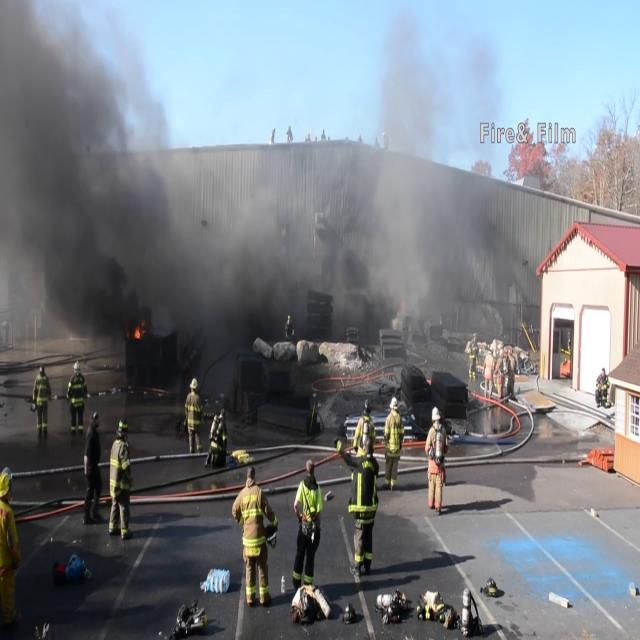Smoke: (1, 16, 535, 374)
